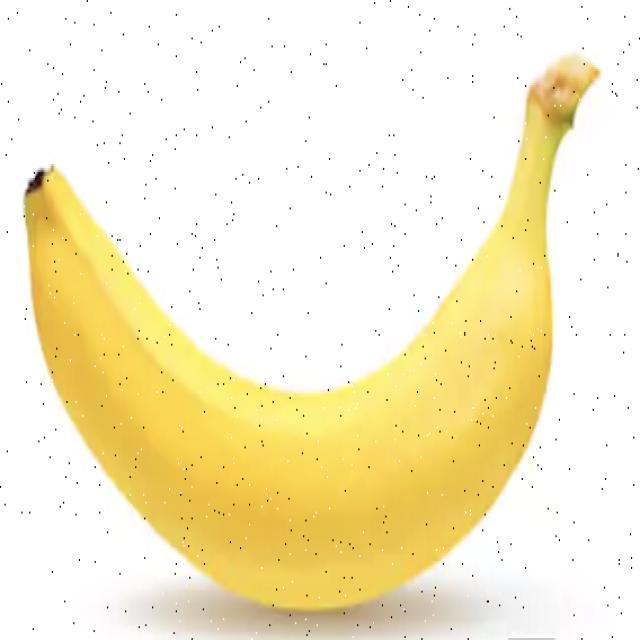Banana: (22, 51, 600, 612)
